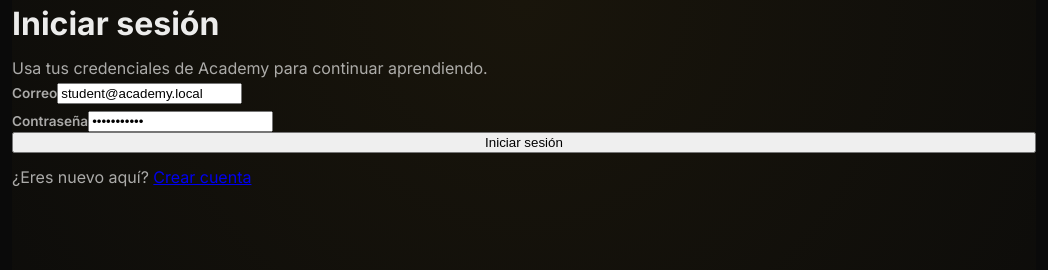
Scenario: LoginForm › shows rate limited message with retry hint
This screenshot has width=1048, height=270.
Step 1. Click the button "Iniciar sesión" → (524, 142), box left=12, top=132, right=1036, bottom=153
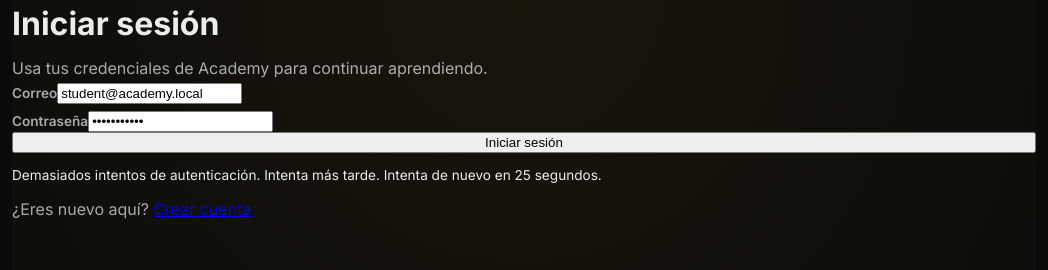
Result: the text "Demasiados intentos de autenticación. Intenta más tarde. Intenta de nuevo en 25 segundos." is shown at left=12, top=167, right=602, bottom=183
